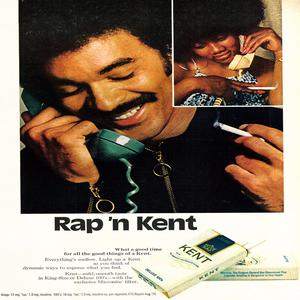cigarette: (210, 119, 258, 141)
